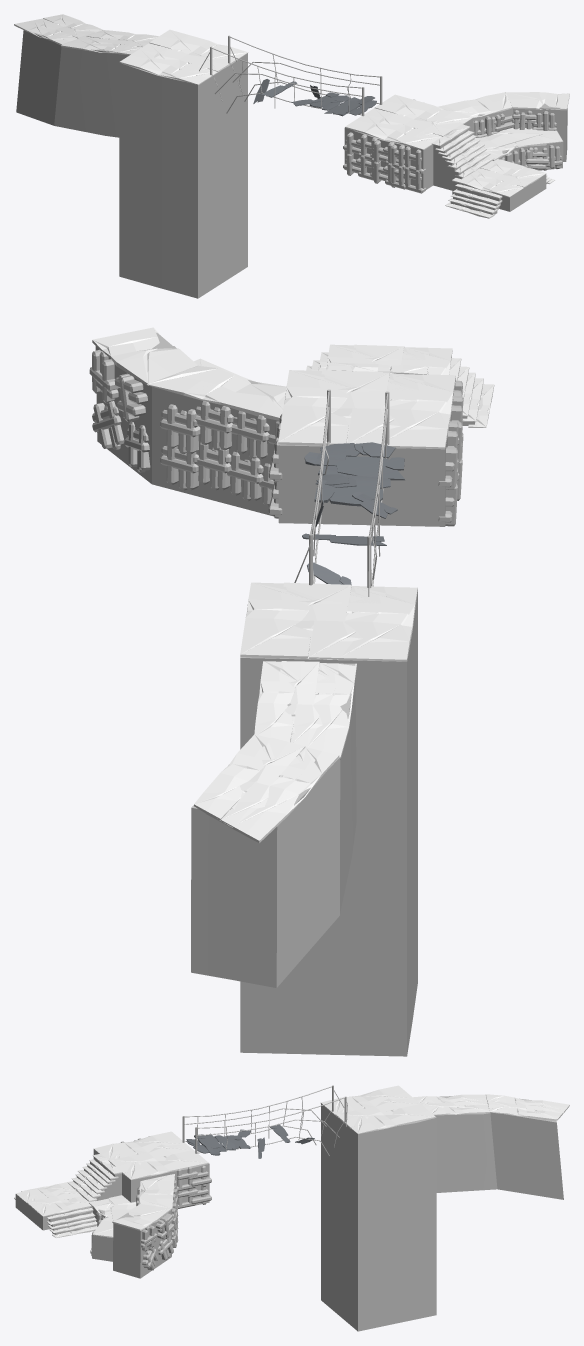
Rendered from puenteRoto.fbx.
The picture shows the model from 3 angles, top to bottom: view 1: azimuth 30°, elevation 25°; view 2: azimuth 150°, elevation 25°; view 3: azimuth 270°, elevation 25°; orthographic projection. The views are drawn at different scales.
Visible parts, largest first — view 1: polySurface387; view 2: polySurface387; view 3: polySurface387.
Boxes of the visible parts, bbox=[...] form: polySurface387: bbox=[14, 14, 569, 298]; polySurface387: bbox=[89, 327, 494, 1056]; polySurface387: bbox=[14, 1085, 569, 1331].
Bounding box in the file's own units: 4424 × 3149 × 7061.
